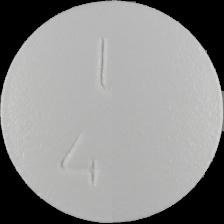63402-304: (0, 0, 224, 224)
